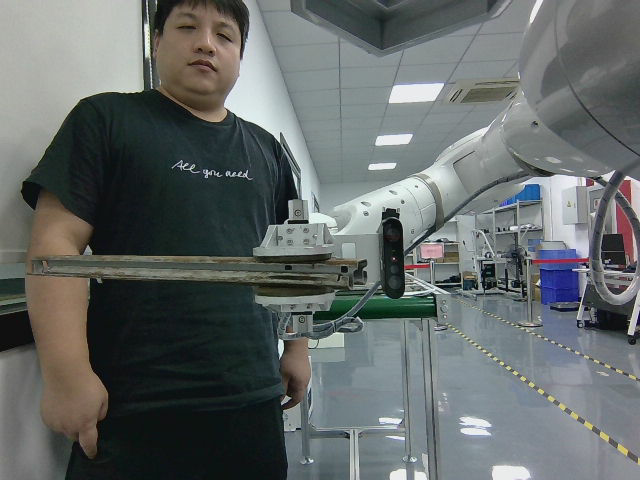down: (30, 252, 368, 291)
